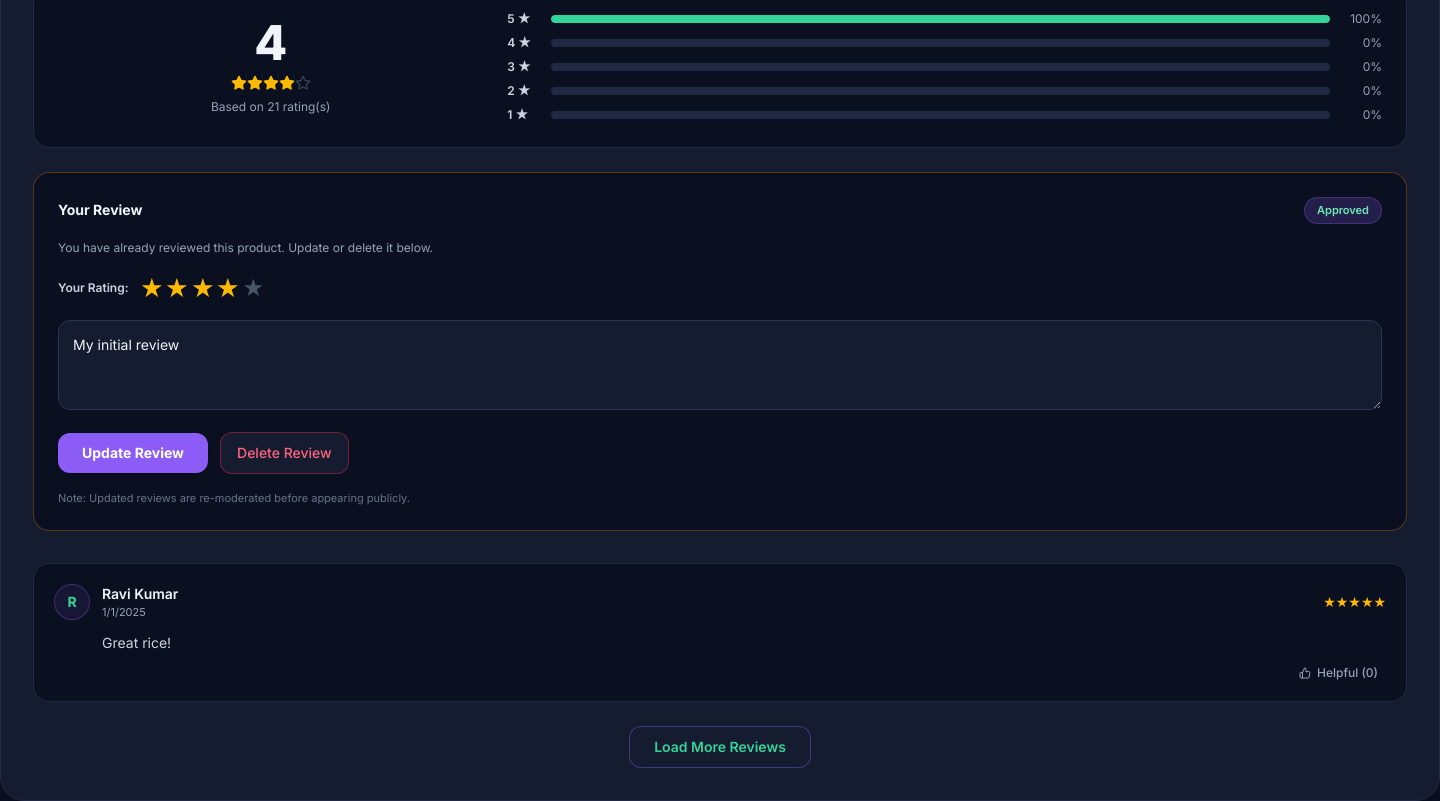
Test case: ProductDetail Review Edit/Delete › deletes the review after the inline confirm and restores the create form
(page scrolled)
Click the button "Delete Review".
click(284, 452)  # box [220,432,349,474]
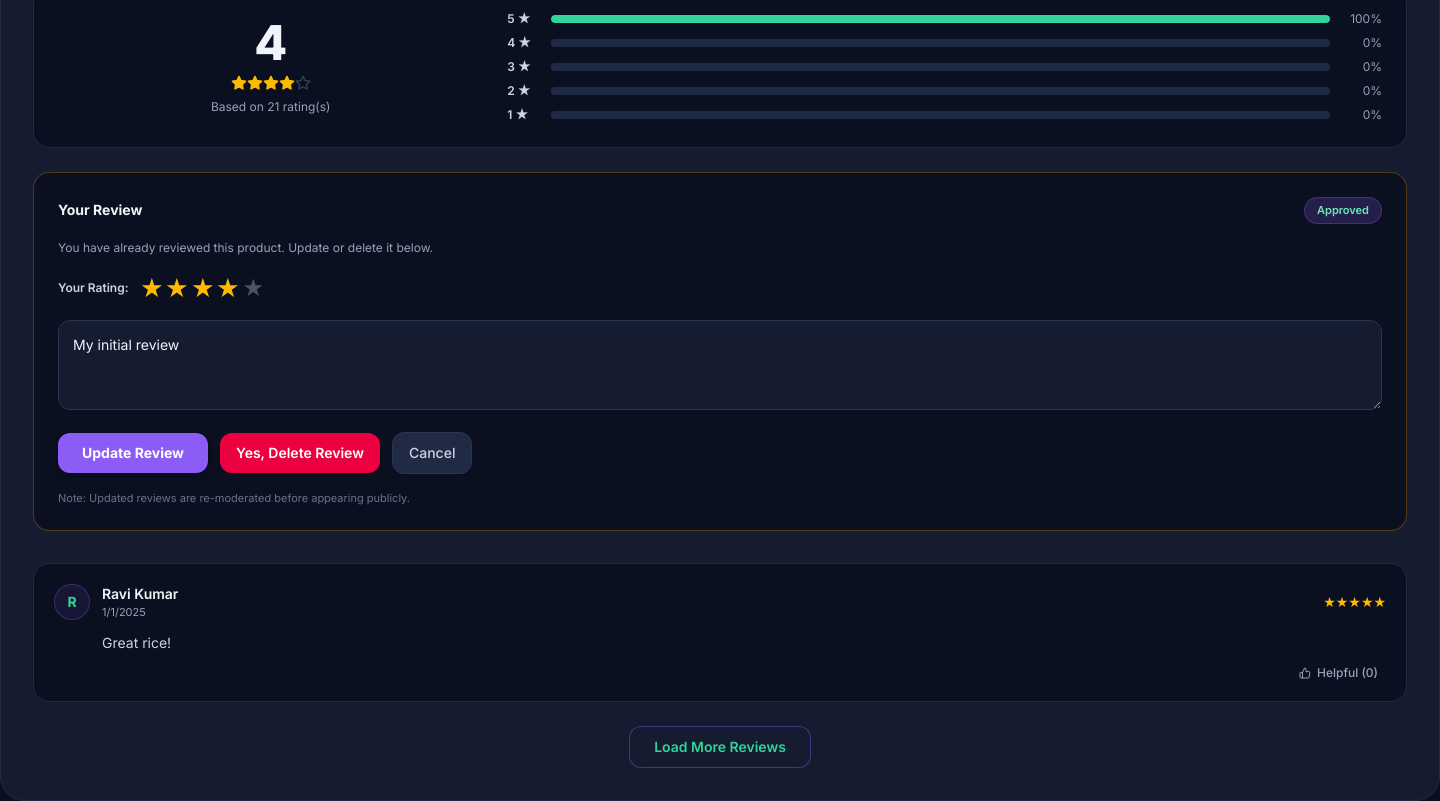
Check: the button "Yes, Delete Review" is shown
Click the button "Yes, Delete Review".
click(300, 452)  # box [220,432,380,472]
(page scrolled)
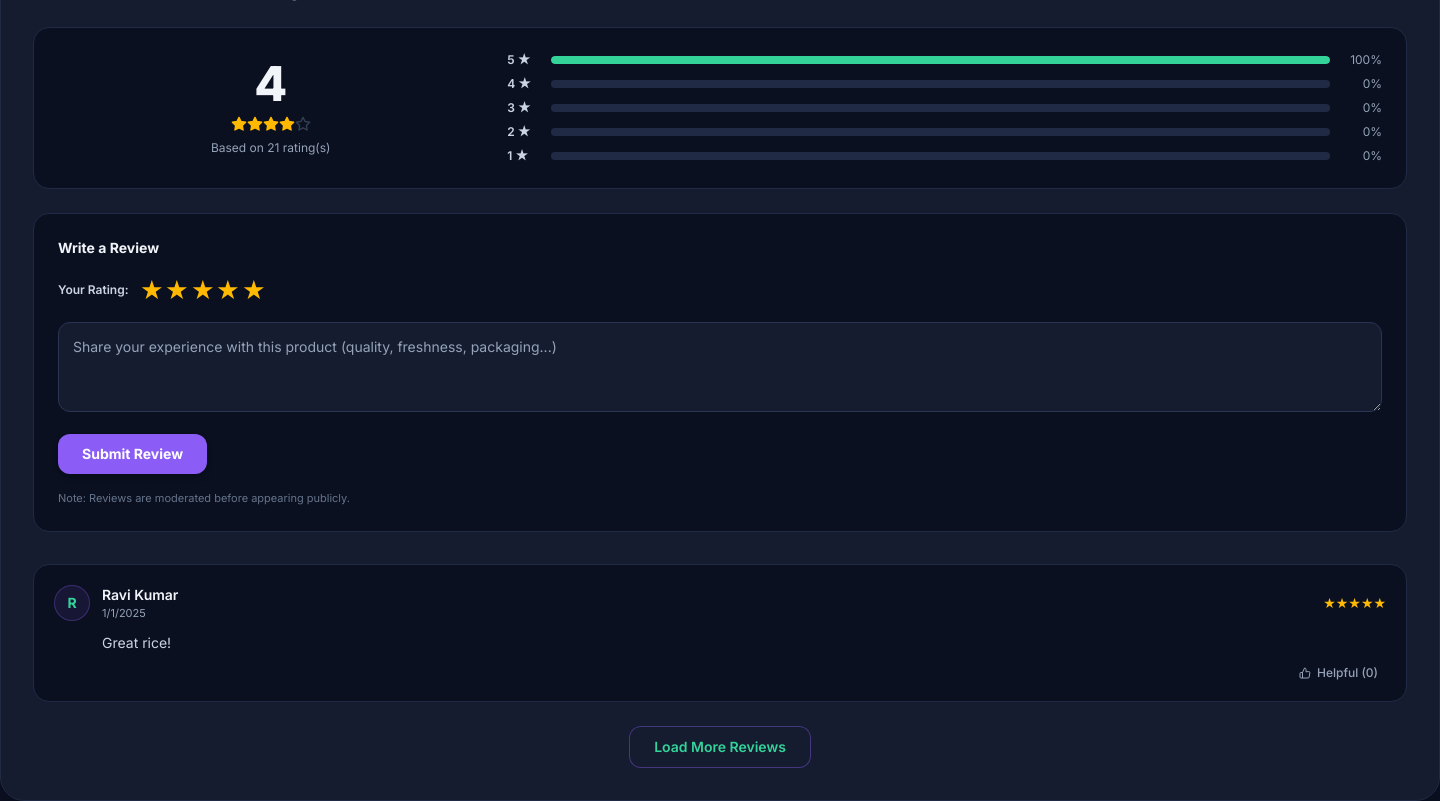
Check: the button "Submit Review" is shown, box [58,434,207,474]
